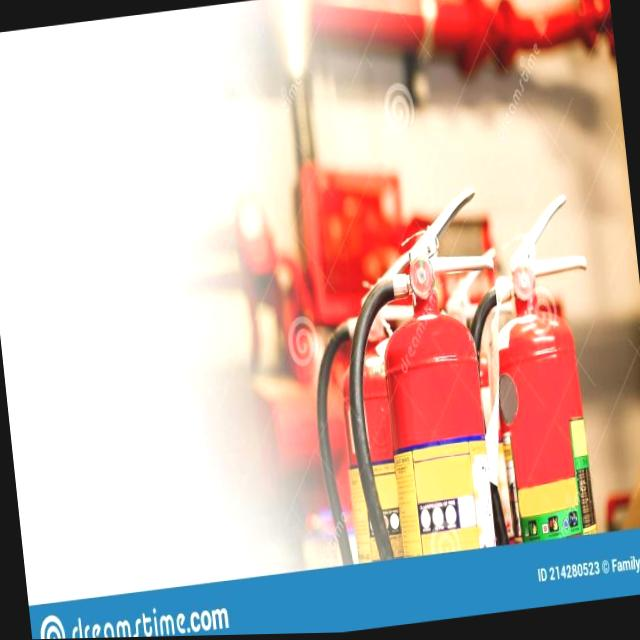FireExtinguisher: (332, 184, 524, 562), (448, 189, 617, 550), (299, 248, 453, 568)
